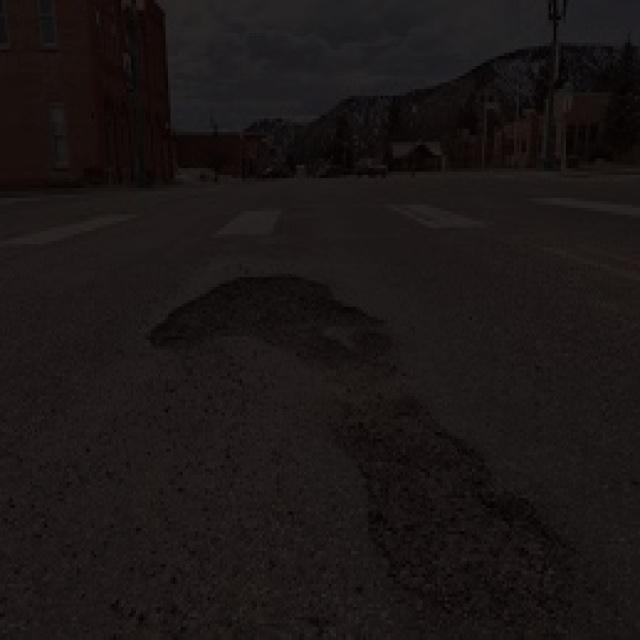Pothole: (301, 386, 577, 626), (142, 256, 412, 378)
